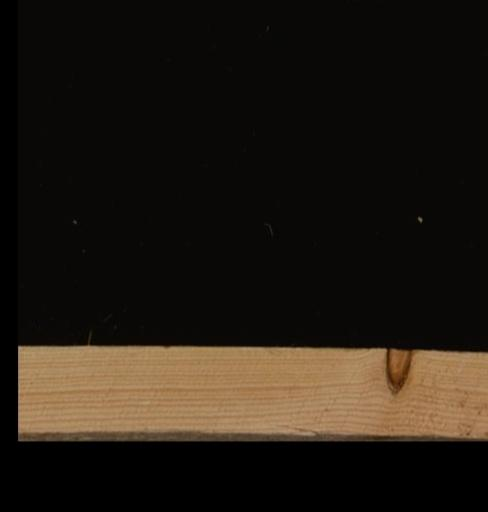edge_knot: (383, 346, 413, 395)
split: (272, 417, 321, 436)
